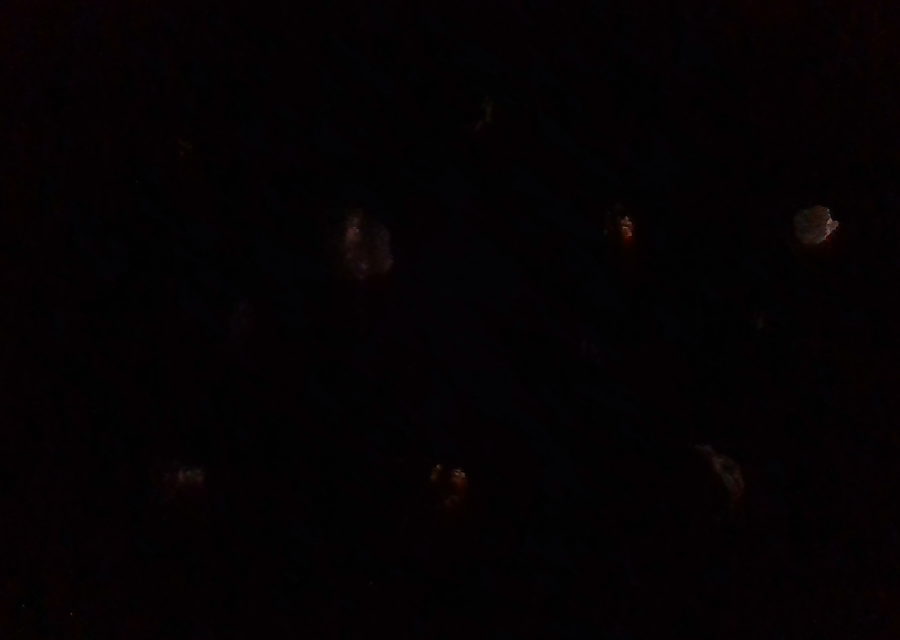anorthosite: (313, 193, 395, 281), (146, 455, 206, 509), (793, 204, 838, 245)
basalt: (515, 311, 602, 393), (271, 75, 333, 150), (708, 297, 766, 355)
metal: (382, 453, 470, 549), (579, 191, 636, 245), (151, 120, 193, 161)
regolith: (645, 442, 745, 525), (201, 296, 257, 346), (448, 89, 495, 131)
